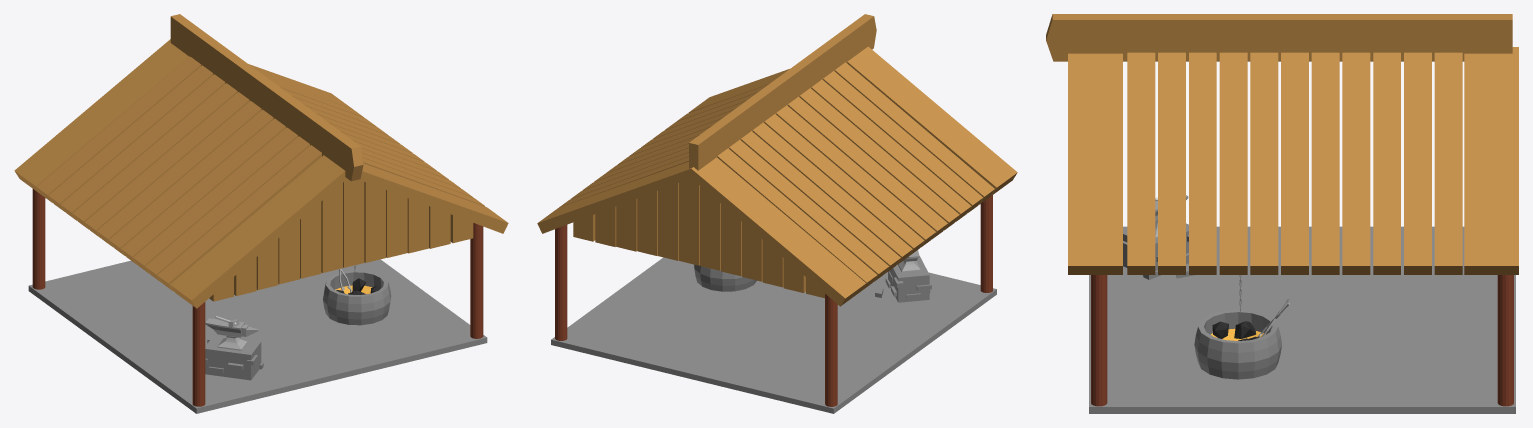
Rendered from Кузница.fbx.
The picture shows the model from 3 angles, left to right: view 1: azimuth 30°, elevation 25°; view 2: azimuth 150°, elevation 25°; view 3: azimuth 270°, elevation 25°; orthographic projection. The views are drawn at different scales.
Parts seen in each view (by area): view 1: Cube.013, Plane, Cube, Cylinder, Cylinder.001, Подставка под наковальню, Наковальня; view 2: Cube.013, Plane, Cube.011, Cylinder, Подставка под наковальню, Cylinder.001; view 3: Cube.013, Plane, Cylinder.001, Cylinder.
Part boxes in pixels (box(x1,y1,x2,y2)): Cube.013: box(14, 14, 508, 308); Plane: box(28, 259, 487, 413); Cube: box(209, 179, 473, 301); Cylinder: box(32, 189, 483, 406); Cylinder.001: box(323, 270, 391, 325); Подставка под наковальню: box(205, 335, 261, 380); Наковальня: box(205, 318, 259, 350); Cube.013: box(537, 14, 1017, 306); Plane: box(551, 257, 996, 413); Cube.011: box(573, 178, 824, 298); Cylinder: box(555, 195, 992, 406); Подставка под наковальню: box(888, 256, 929, 302); Cylinder.001: box(693, 264, 756, 291); Cube.013: box(1046, 14, 1518, 274); Plane: box(1089, 226, 1515, 413); Cylinder.001: box(1194, 309, 1281, 379); Cylinder: box(1091, 275, 1513, 406).
Bounding box in the file's own units: 1090 × 793 × 1107.
